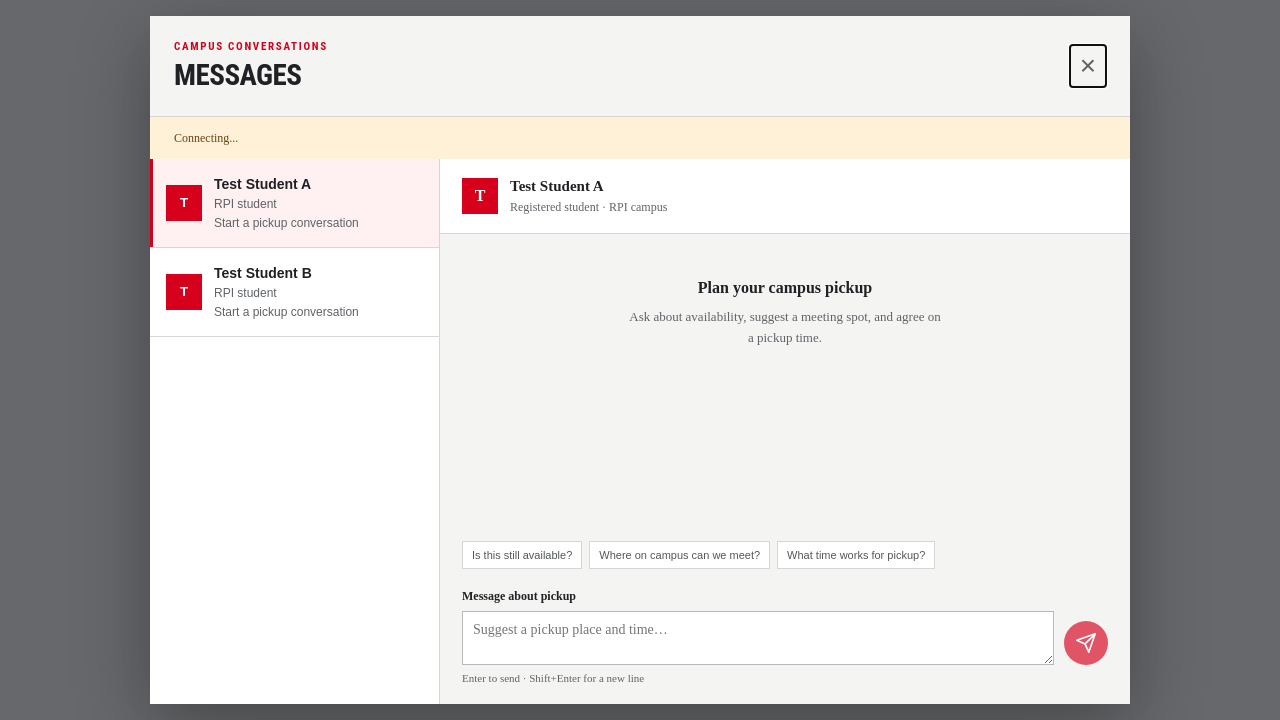
Test: sends a trimmed message with Enter and clears the draft after persistence
Type " Hello " into the text box at x=758, y=638, box [462,611,1054,665]
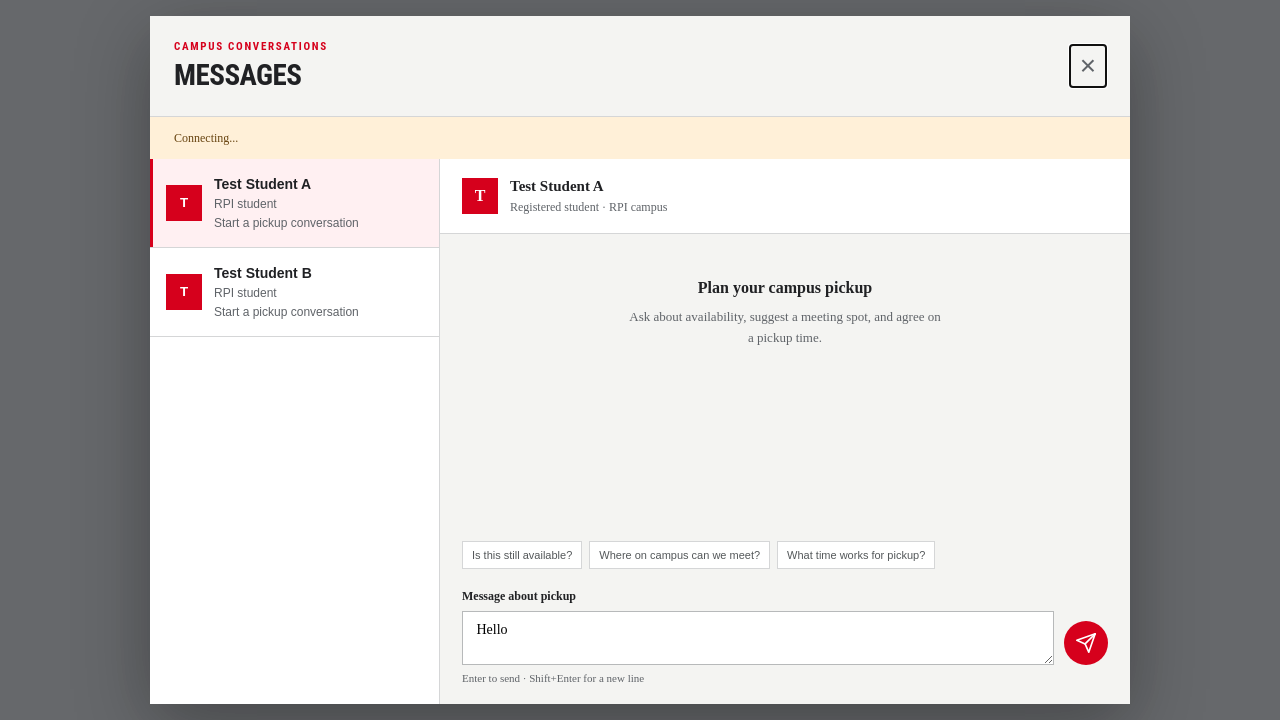
Press Enter in the text box, box [462,611,1054,665]
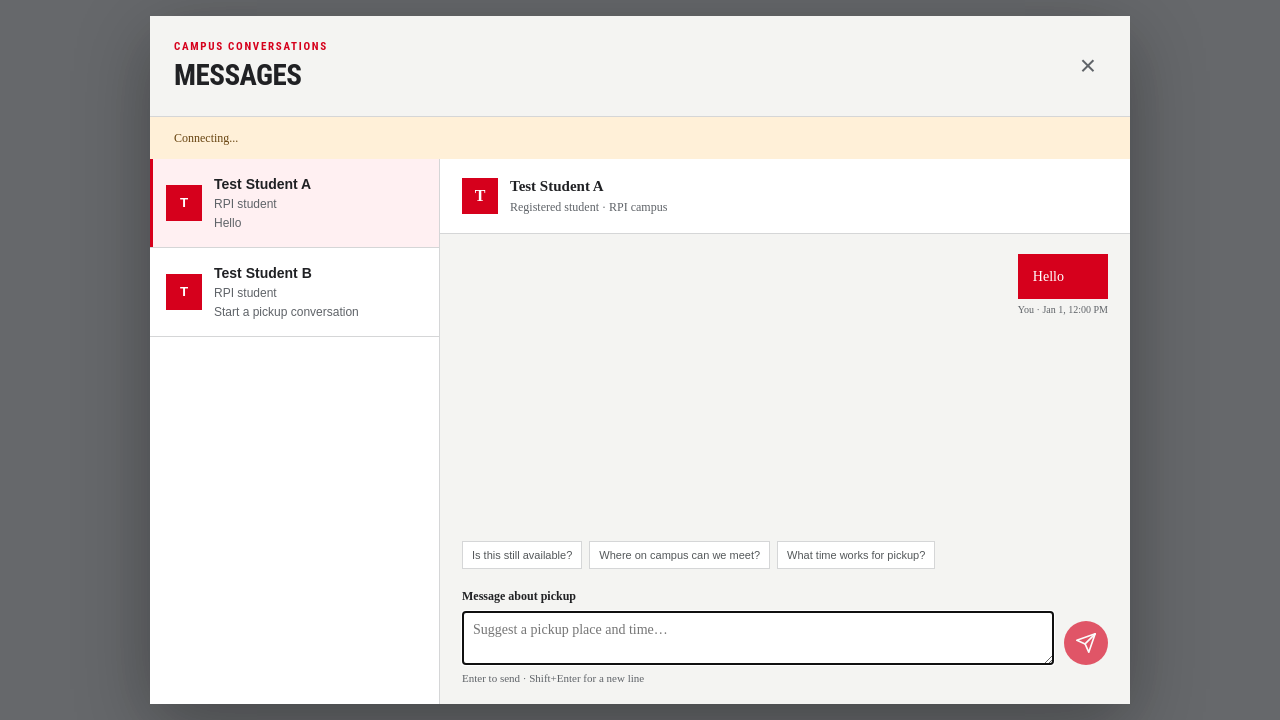
Now the text box is empty, box [462,611,1054,665]
Now the 2nd text "Hello" is shown, box [1018,254,1108,299]
